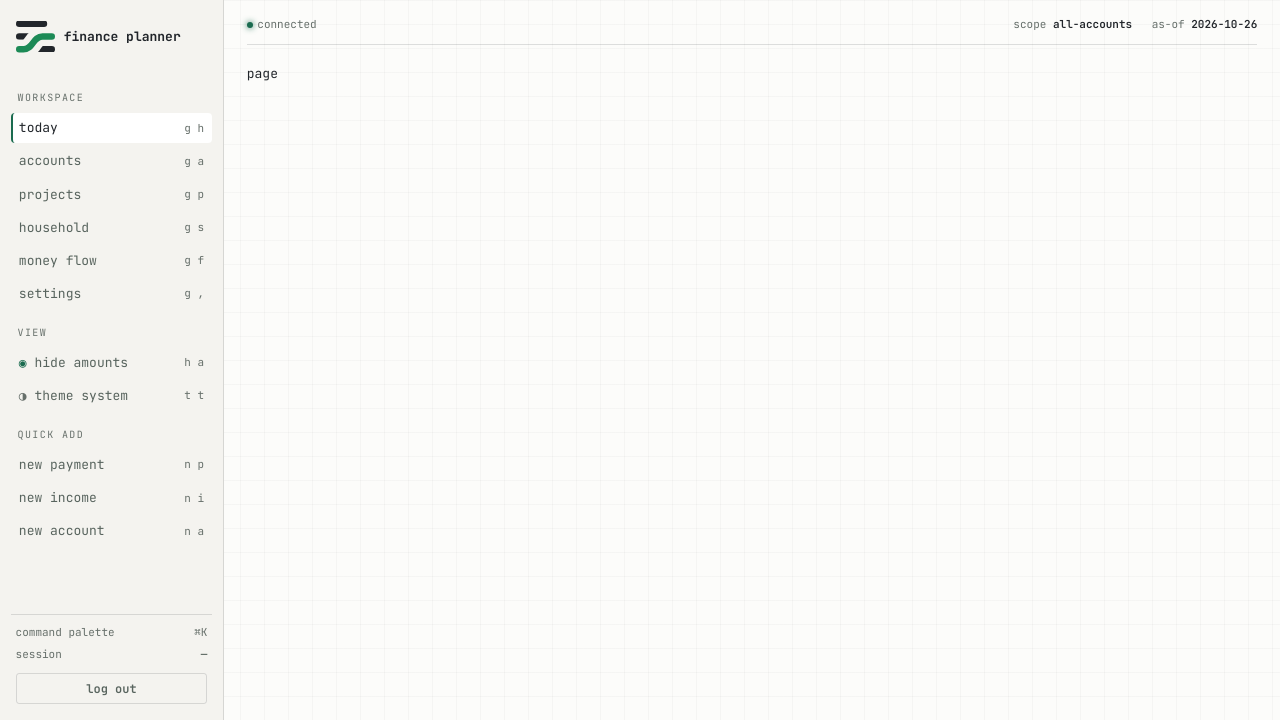
it: Layout theme toggle › shows the current theme and walks to the next one
Check: the text "page" is shown, box [247,65,278,82]
Click the button "◑ theme system t t" at [111, 396], box [11,381,212,411]
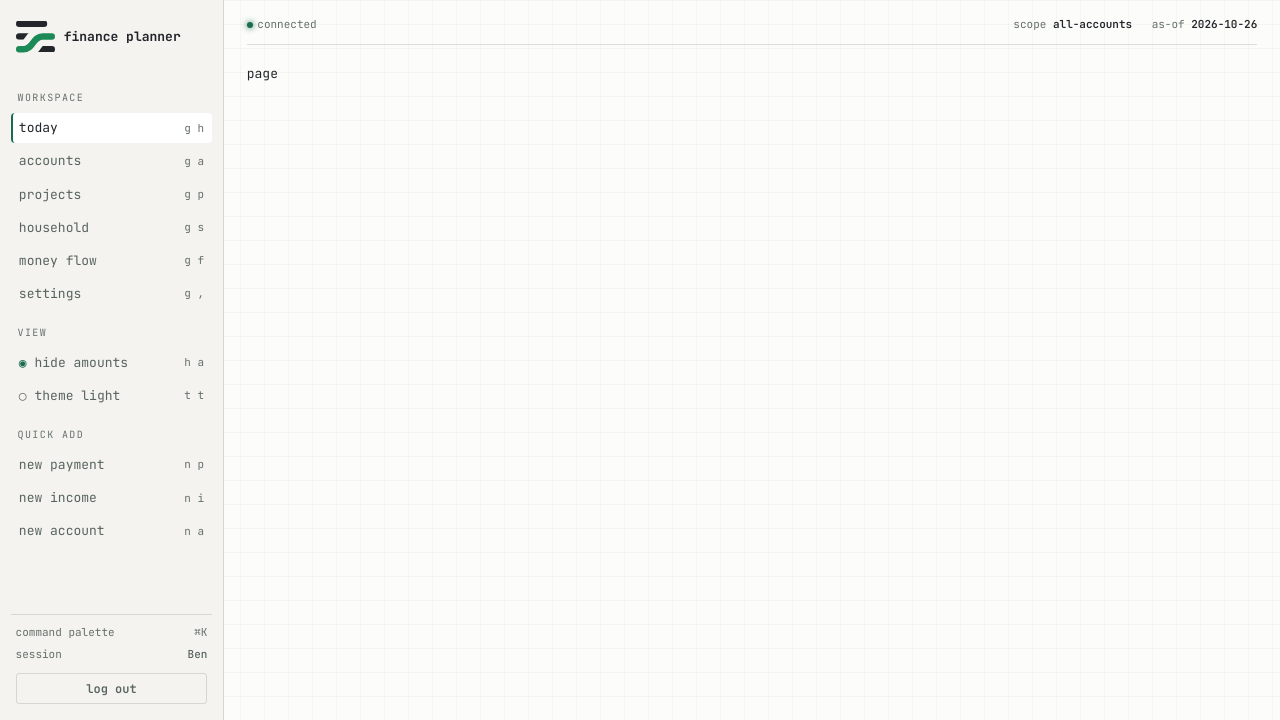
Check: the button "○ theme light t t" is shown
Click the button "○ theme light t t" at [111, 396], box [11,381,212,411]
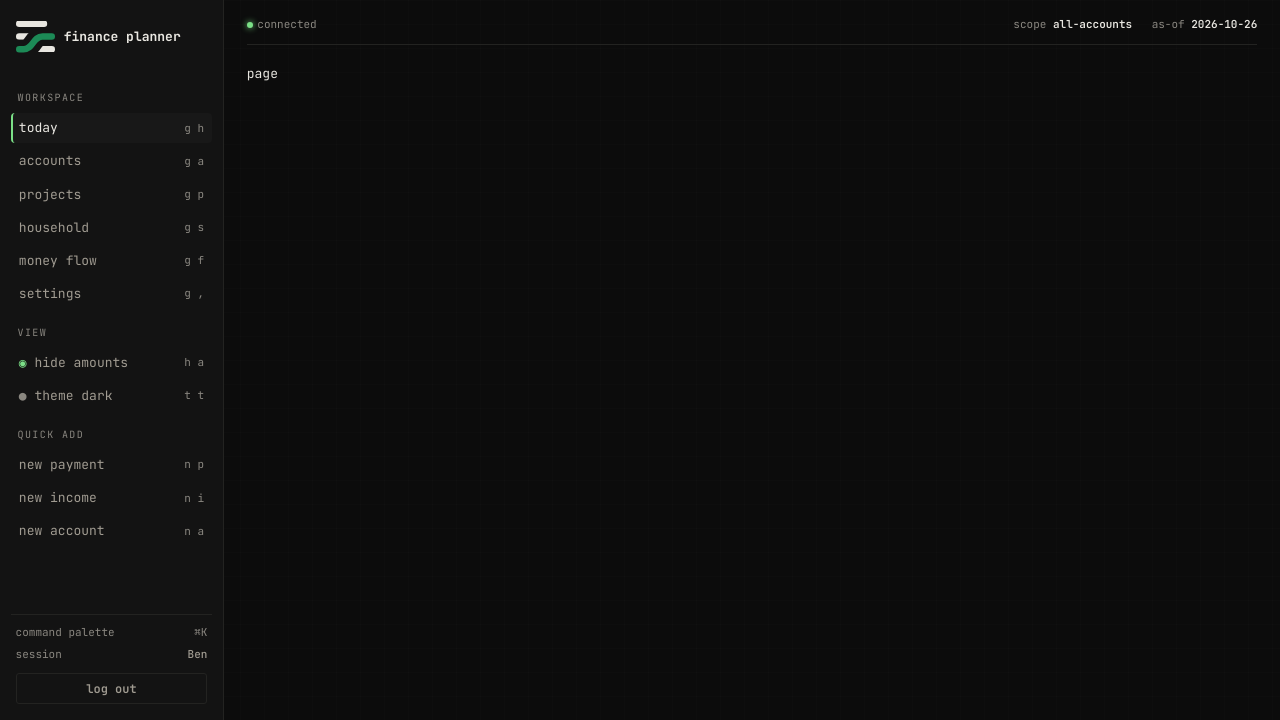
Check: the button "● theme dark t t" is shown, box [11,381,212,411]
